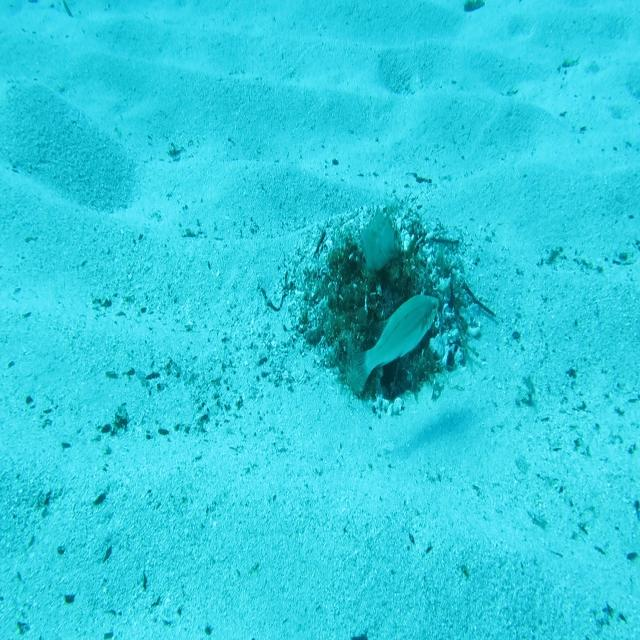NIP_CORE: (356, 202, 402, 283)
core_nest: (358, 241, 426, 282)
female: (345, 290, 441, 401)
nest: (276, 191, 489, 431)
vegetation: (463, 0, 485, 15)
